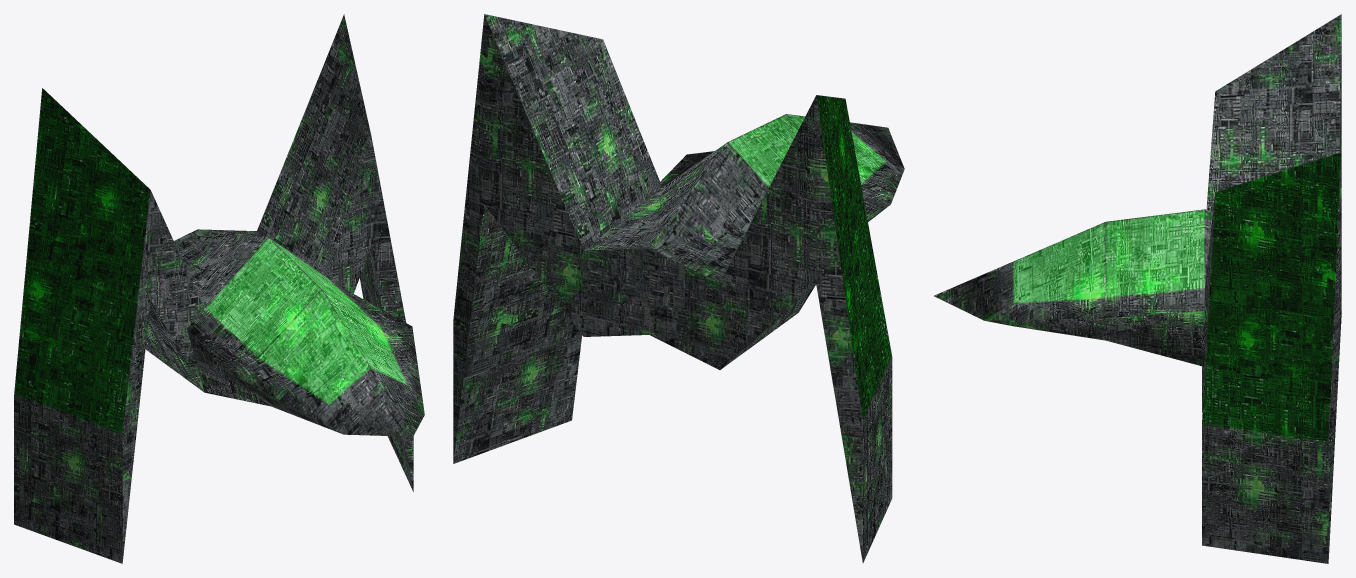
File: Boss1.dae
3 views of the same model, side by side, from view 1: azimuth 30°, elevation 25°; view 2: azimuth 150°, elevation 25°; view 3: azimuth 270°, elevation 25° (orthographic). The views are drawn at different scales.
Visible parts, largest first — view 1: pCube1; view 2: pCube1; view 3: pCube1.
Part boxes in pixels (x1,y1,x2,y2): pCube1: (14, 14, 424, 563); pCube1: (453, 14, 904, 563); pCube1: (934, 14, 1341, 563).
Bounding box in the file's own units: 18.37 × 19.94 × 18.64.
Materials: 1 (1 with a texture image).
